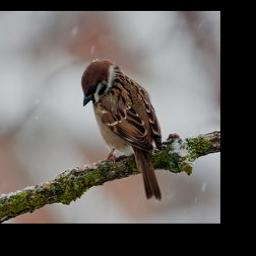Sparrow: (80, 57, 165, 200)
